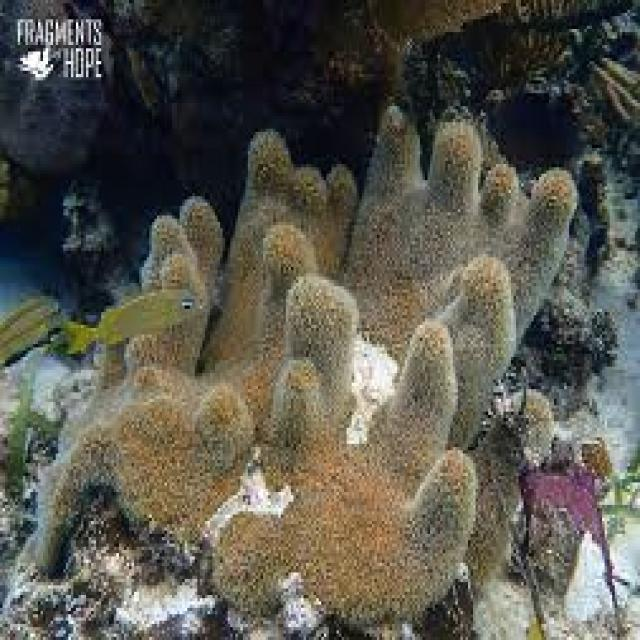Coral: (12, 103, 580, 640)
